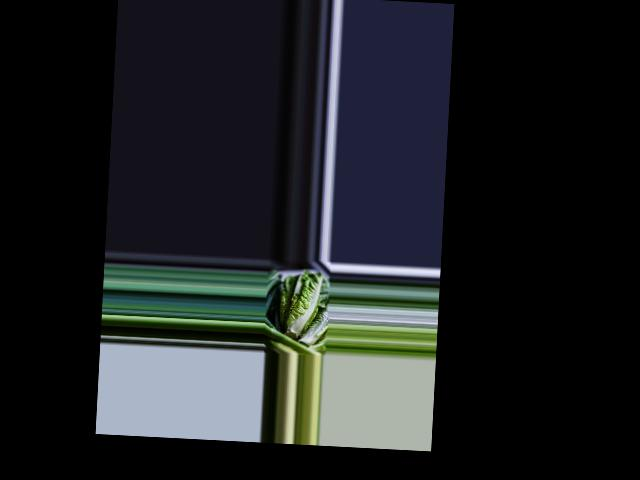lettuce: (277, 269, 324, 340)
